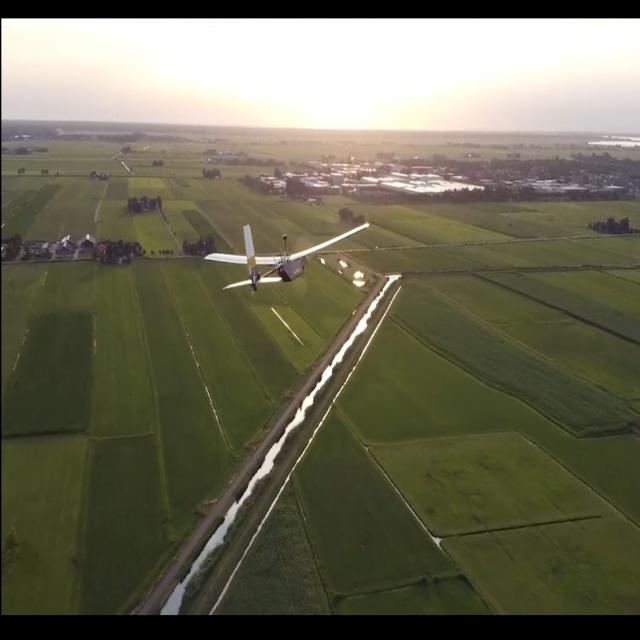iha: (205, 241, 372, 267)
